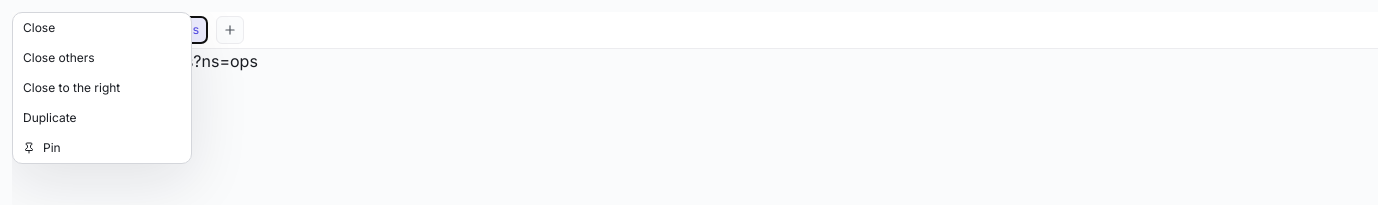
Scenario: <TabBar /> › right-click menu duplicates the tab and activates the copy
The image size is (1378, 205).
Click the menu item "Duplicate" at (102, 118), box top-left (13, 103), bottom-right (191, 133)
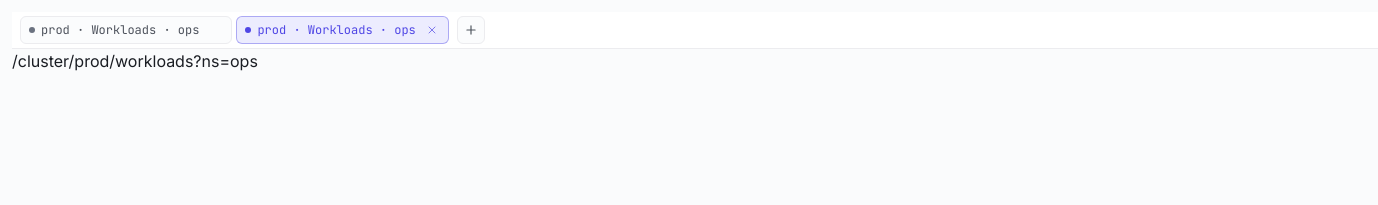
expect the text "prod · Workloads · ops" is shown 2 times: met, box top-left (41, 21), bottom-right (199, 39); top-left (257, 21), bottom-right (416, 39)
